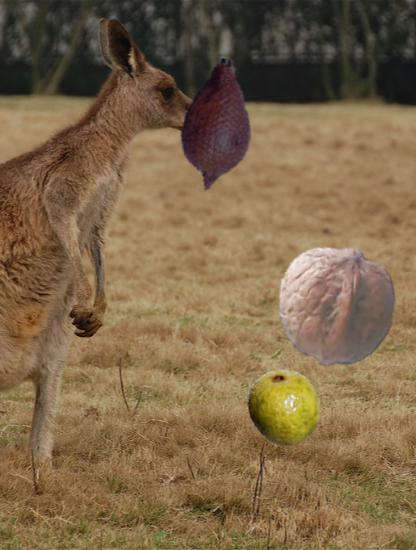Guava: (244, 368, 324, 448)
Salak: (151, 59, 285, 193)
Walnut: (274, 244, 399, 369)
